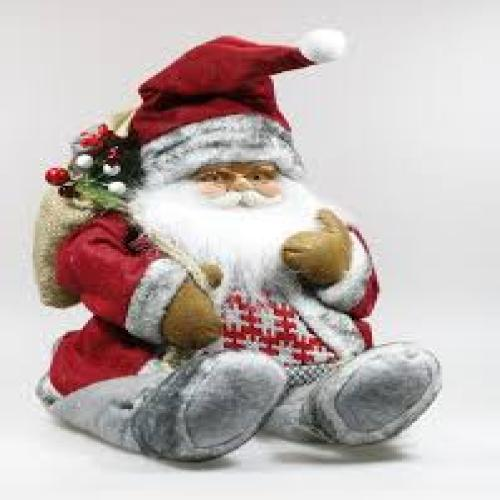Santa: (36, 27, 442, 463)
